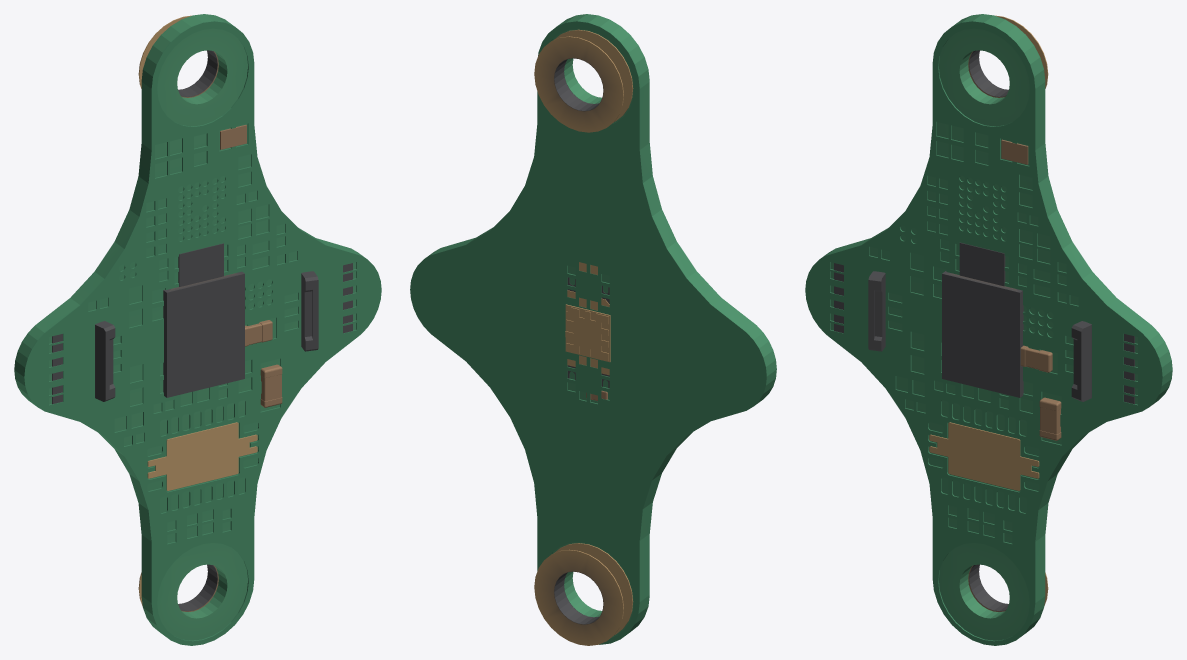
File: assembly.glb
The picture shows the model from 3 angles, left to right: view 1: azimuth 30°, elevation 25°; view 2: azimuth 150°, elevation 25°; view 3: azimuth 330°, elevation 25°; orthographic projection.
Visible parts, largest first — view 1: pcb; view 2: pcb; view 3: pcb.
Part boxes in pixels (x1,y1,x2,y2): pcb: [14, 14, 381, 645]; pcb: [410, 14, 776, 645]; pcb: [805, 14, 1172, 645].
Bounding box in the file's own units: 0.016 × 0.0266 × 0.00223.
